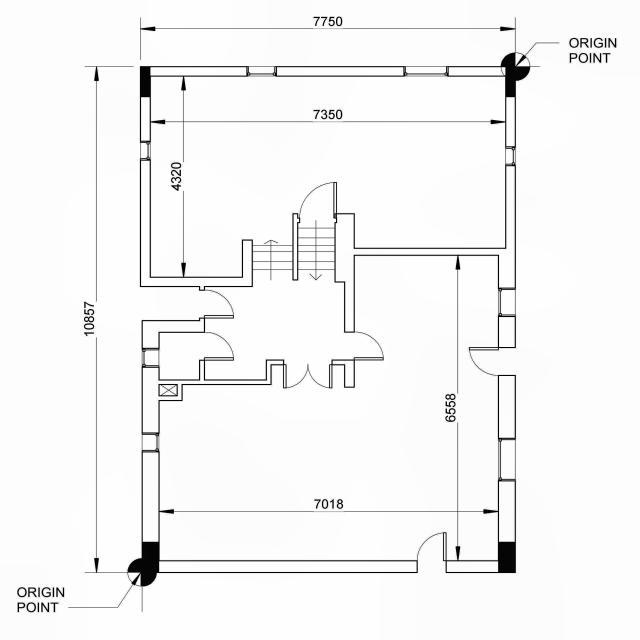Column: (498, 542, 516, 573), (142, 542, 159, 572), (505, 66, 516, 97), (140, 66, 150, 98)
Door: (296, 176, 341, 219), (468, 346, 518, 377), (192, 330, 236, 363), (416, 531, 448, 576)
Double-Door: (280, 358, 335, 390)
Staircase: (245, 220, 338, 290)
Window: (496, 436, 518, 484), (496, 285, 518, 319), (402, 64, 451, 78), (140, 431, 161, 454), (140, 346, 161, 369), (244, 64, 278, 78), (138, 140, 153, 162), (504, 145, 517, 168)
